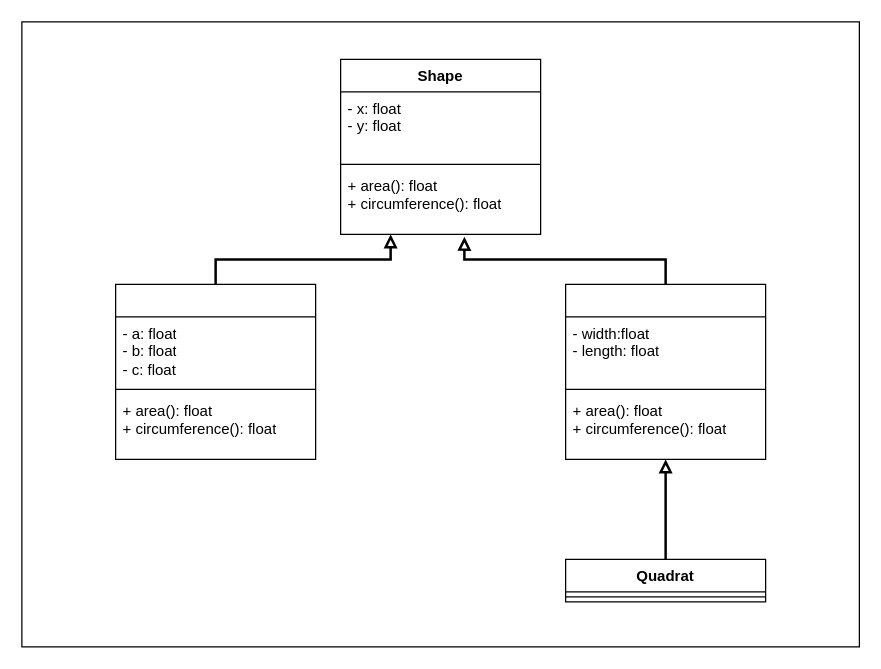
Some shapes in this 881 by 669 pixel diagram are drawn without their labels. The box of each missing label's shape, as (x1, y1, x2, y2) in pixels:
Rectangle: (564, 283, 766, 459)
Triangle: (114, 283, 316, 459)
